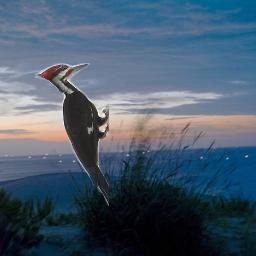Woodpecker: (35, 63, 109, 206)
